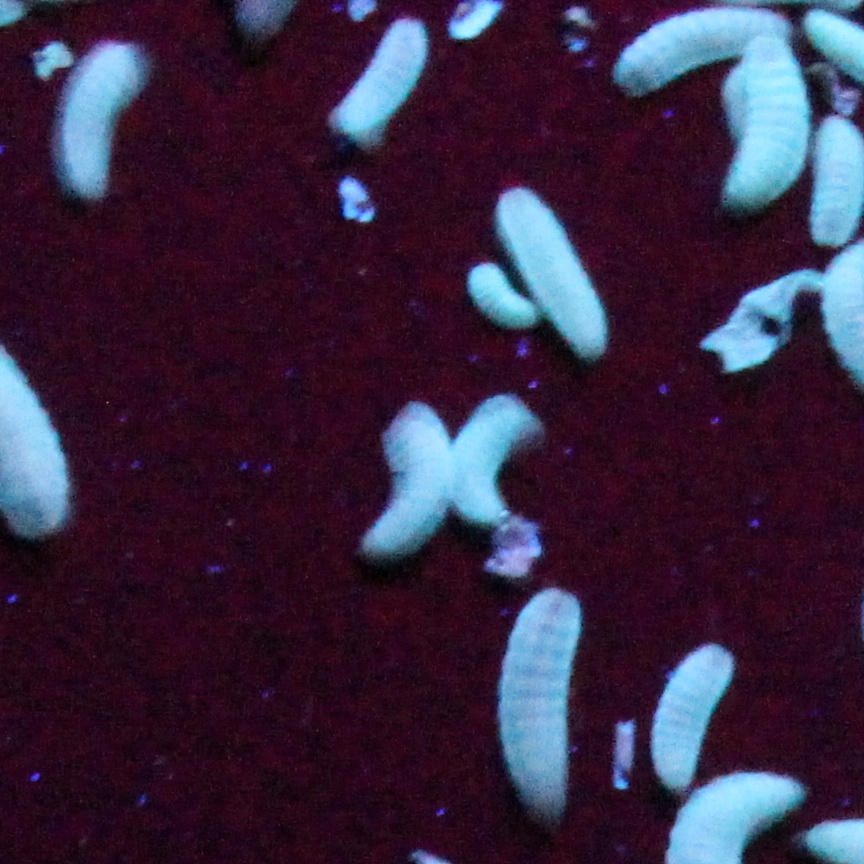larve: (506, 181, 612, 368), (506, 588, 586, 808), (66, 34, 139, 221), (454, 388, 550, 524), (648, 640, 734, 788), (386, 394, 446, 574), (332, 34, 419, 154), (468, 254, 536, 332)
